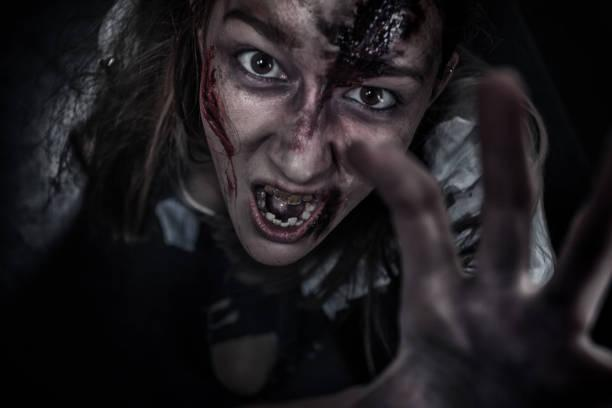Zombie: (173, 4, 446, 254)
